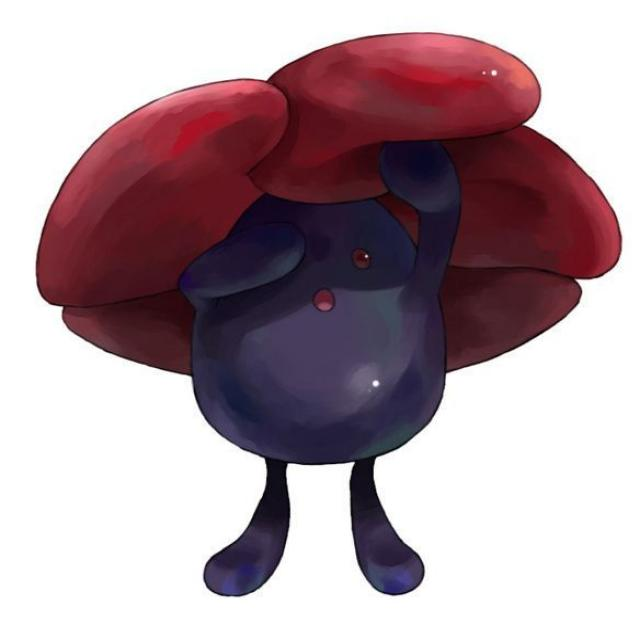Vileplume: (165, 29, 477, 515)
